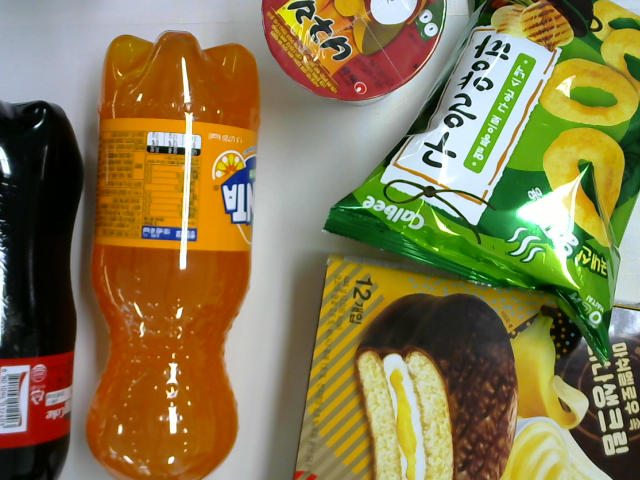Choco_Pie_Banana: (293, 250, 637, 480)
Coca_Cola_1.5L: (1, 96, 87, 477)
Grilled_Onions: (323, 3, 640, 372)
Hwanta_Orange_1.5L: (83, 24, 265, 479)
Raccoon: (262, 1, 448, 107)
